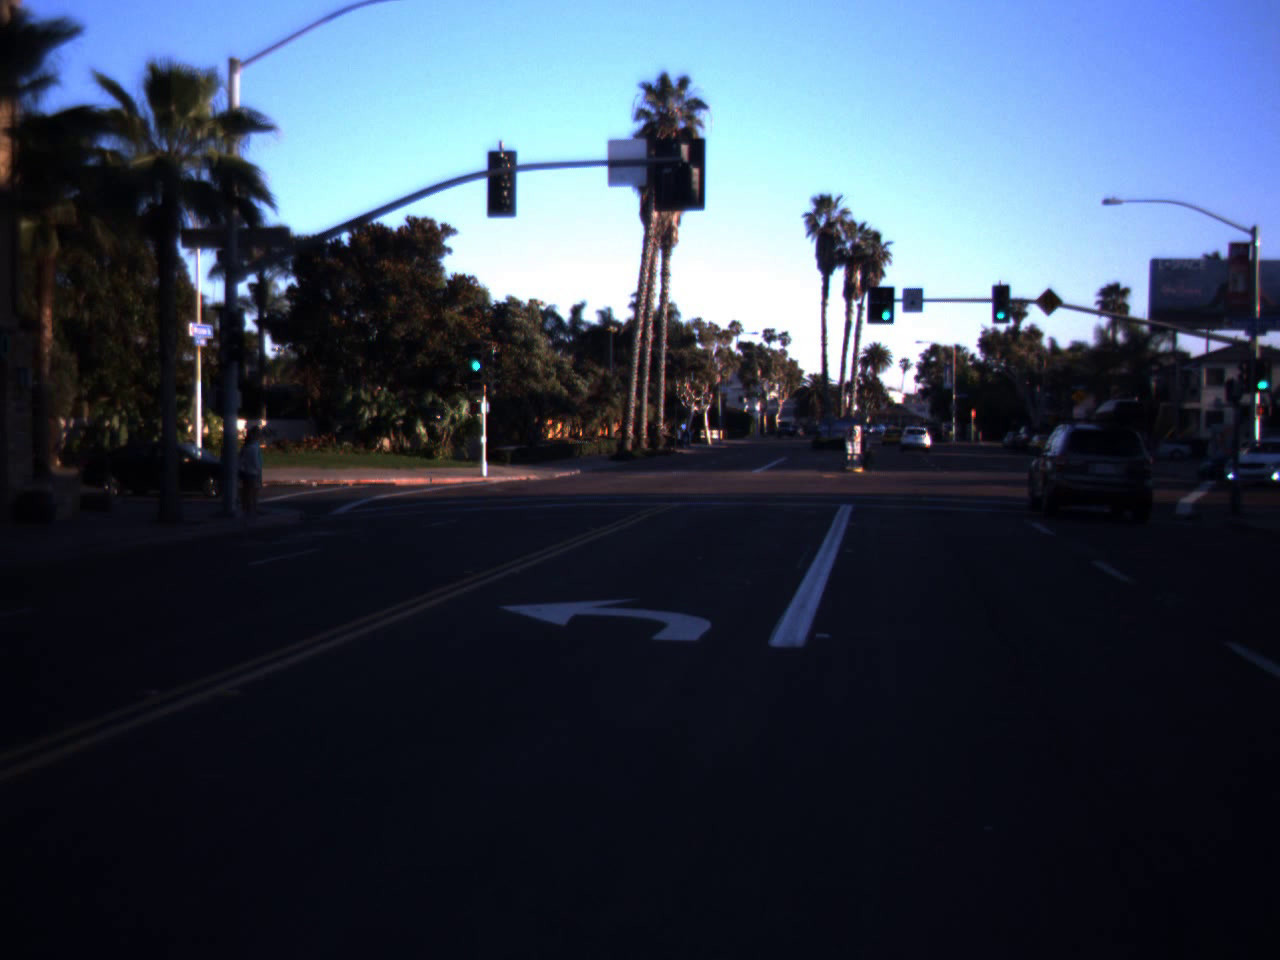go: (464, 334, 488, 374), (987, 287, 1014, 322), (878, 287, 890, 322)
